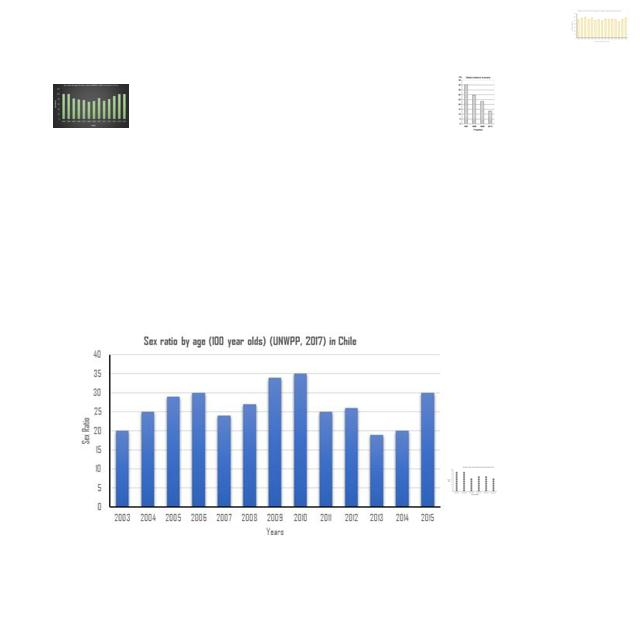Graph: (75, 332, 446, 541), (53, 84, 129, 128), (457, 76, 497, 131), (570, 9, 629, 44), (447, 466, 497, 496)
